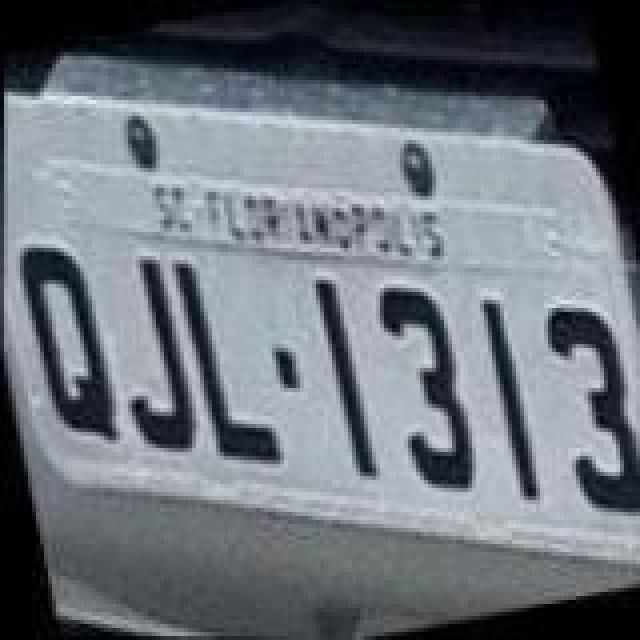1: (306, 266, 386, 486), (474, 290, 550, 510)
3: (364, 270, 484, 502), (528, 290, 640, 526)
J: (94, 250, 206, 462)
L: (166, 246, 286, 478)
Q: (6, 226, 126, 454)
